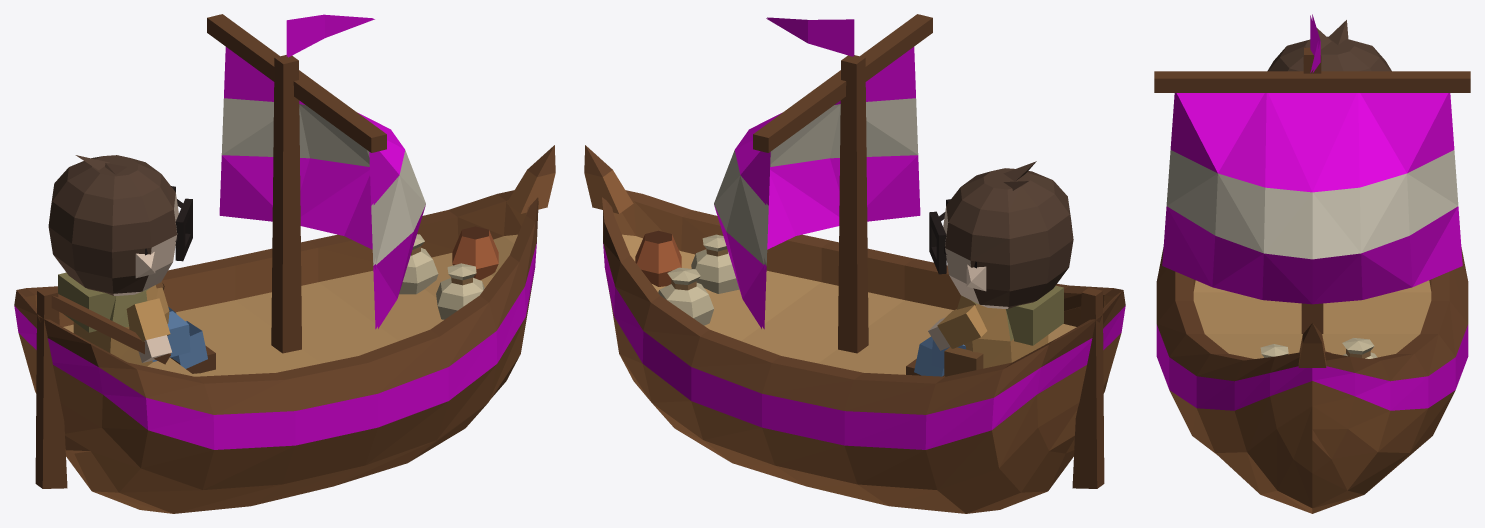
The model's file is player_boat.glb.
3 renders of one model, left to right at view 1: azimuth 30°, elevation 25°; view 2: azimuth 150°, elevation 25°; view 3: azimuth 270°, elevation 25°, orthographic. The views are drawn at different scales.
Parts seen in each view (by area): view 1: player_boat; view 2: player_boat; view 3: player_boat.
Part boxes in pixels (x1,y1,x2,y2): player_boat: [14, 14, 555, 513]; player_boat: [584, 14, 1125, 513]; player_boat: [1154, 14, 1470, 513].
Size of the model in its own units: 1 by 0.857 by 0.552.
